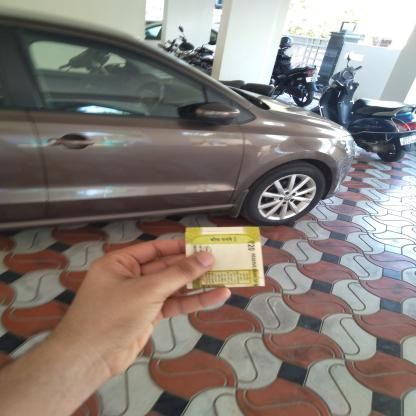New20Back: (186, 228, 262, 286)
